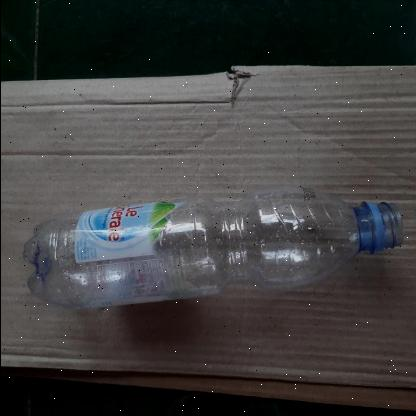Plastic Bottle: (21, 186, 404, 306)
